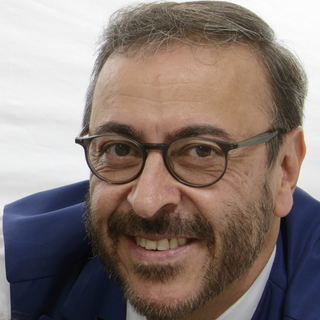eye: (181, 140, 227, 164), (100, 140, 142, 163)
